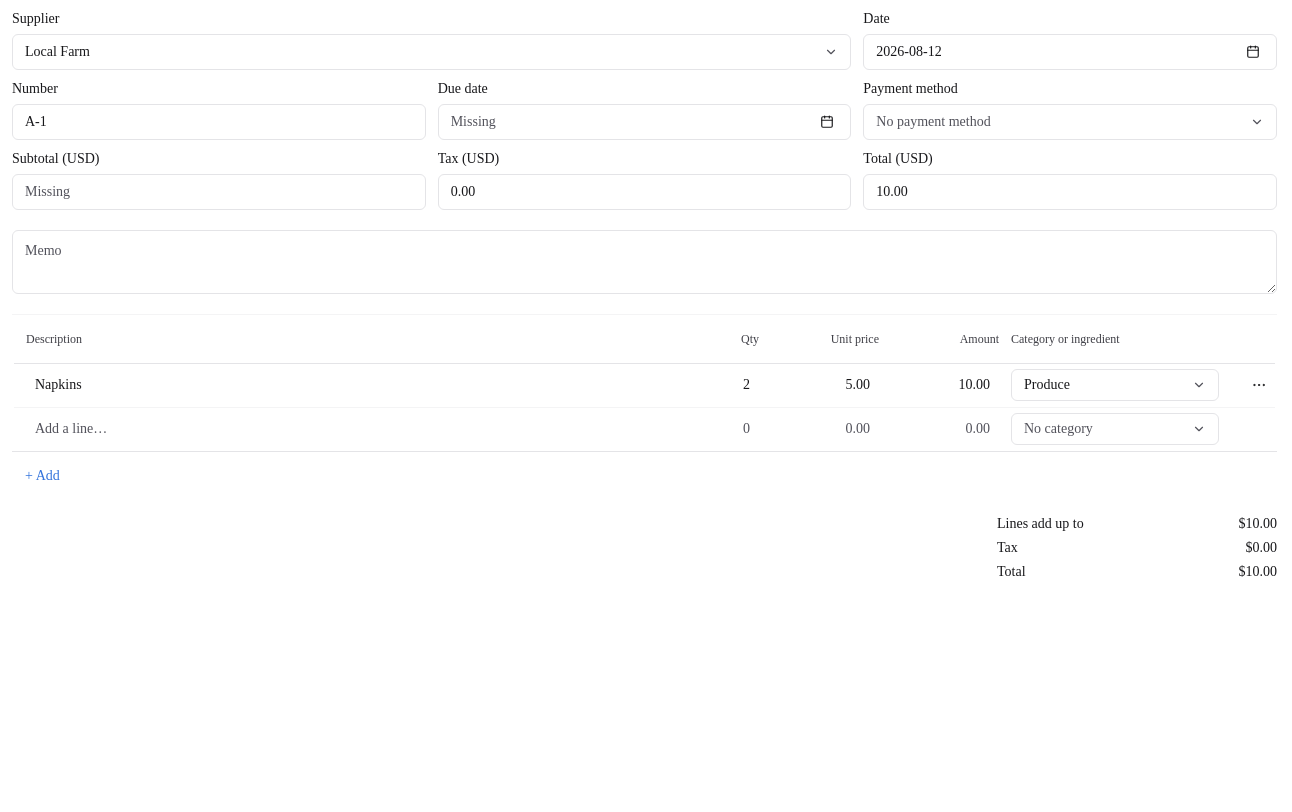
the invoice editor › offers the workspace's own payment methods too
Press the mouse on the dropdown labelled "payment method" at x=933, y=122, box [863,104,1277,140]
Click the dropdown labelled "payment method" at x=933, y=122, box [863,104,1277,140]
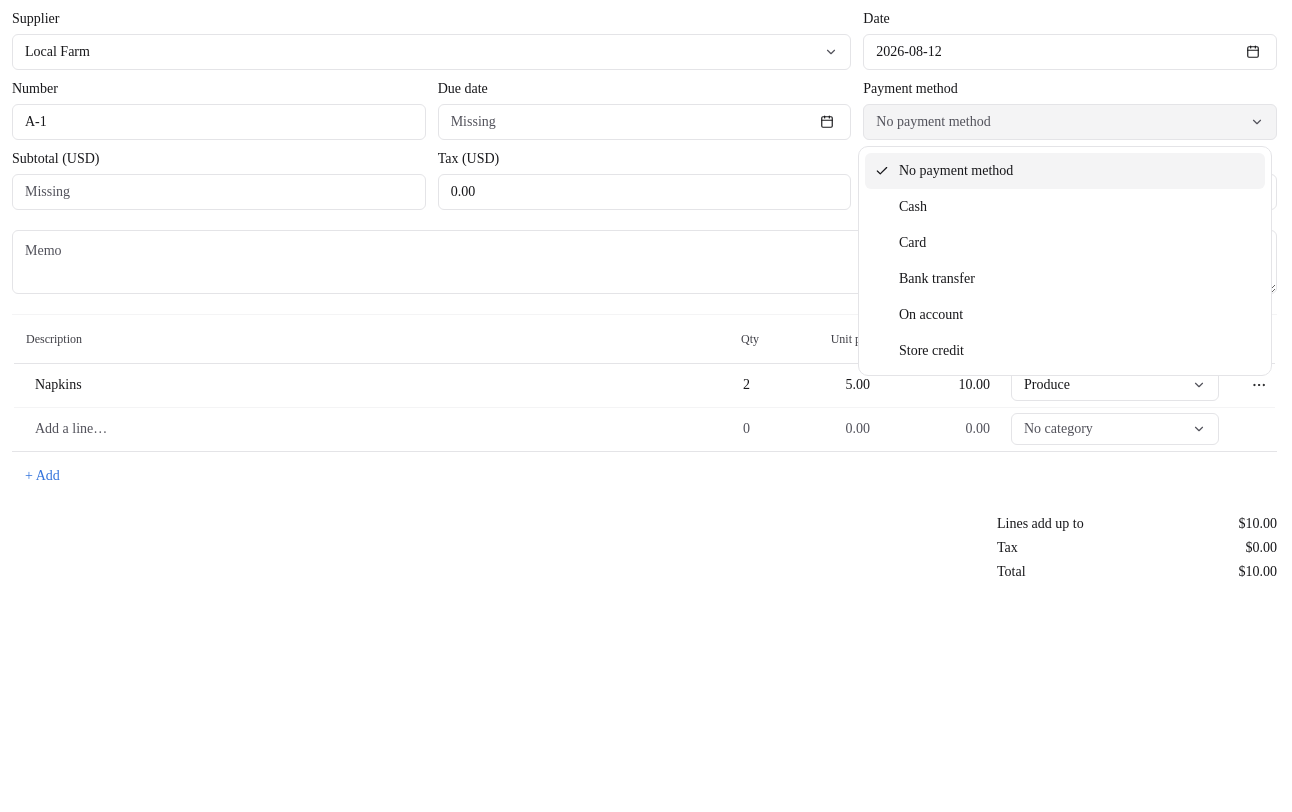
Press the mouse on the option "Store credit" at x=931, y=350, box [899,343,964,358]
Click the option "Store credit" at x=931, y=350, box [899,343,964,358]
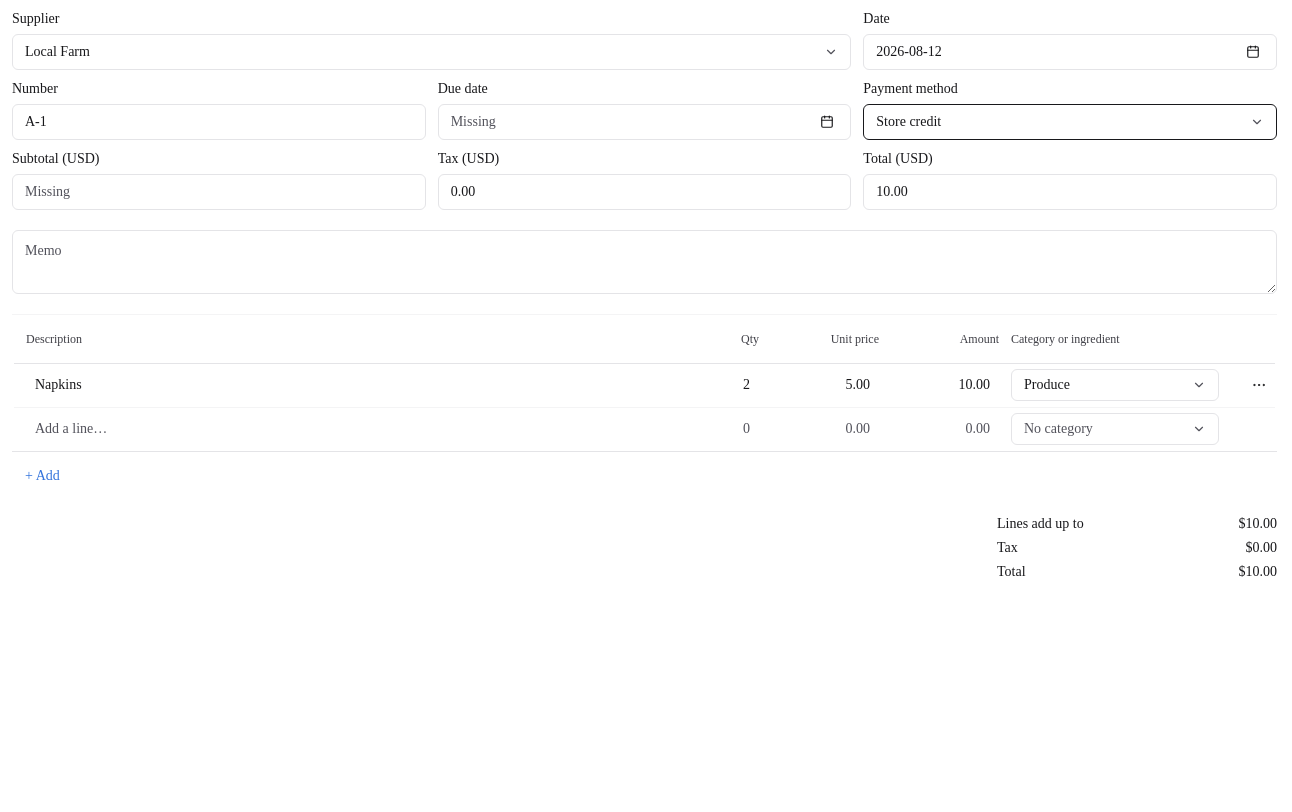
Result: the text "Store credit" is shown at [876,114,941,129]
